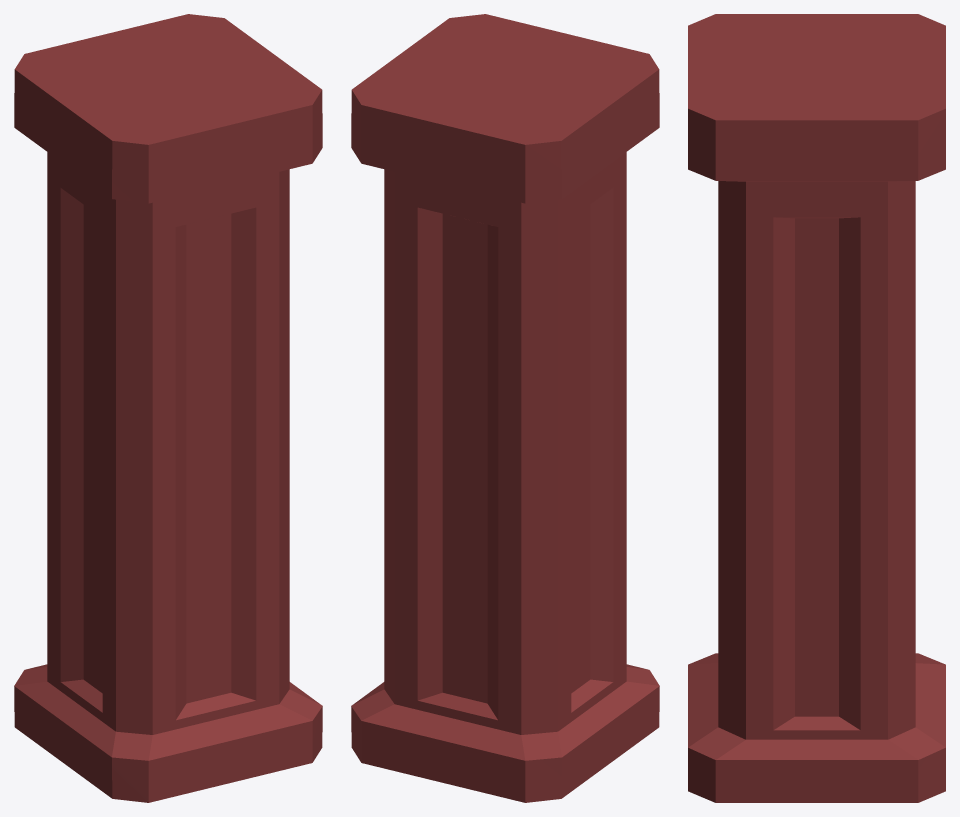
File: O_V_Pilliar_CornerLarge.fbx
The picture shows the model from 3 angles, left to right: view 1: azimuth 30°, elevation 25°; view 2: azimuth 150°, elevation 25°; view 3: azimuth 270°, elevation 25°; orthographic projection. The views are drawn at different scales.
Visible parts, largest first — view 1: O_V_Pilliar_CornerLarge; view 2: O_V_Pilliar_CornerLarge; view 3: O_V_Pilliar_CornerLarge.
Boxes of the visible parts, x1,y1,x2,y2 form: O_V_Pilliar_CornerLarge: (14,14,322,802); O_V_Pilliar_CornerLarge: (351,14,659,802); O_V_Pilliar_CornerLarge: (688,14,945,802).
Bounding box in the file's own units: 2.18 × 6.5 × 2.23.
